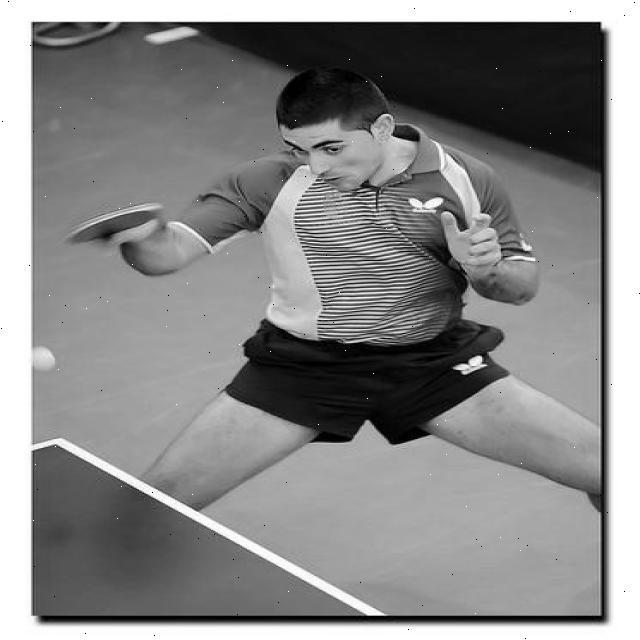ping-pong-ball: (29, 346, 56, 371)
